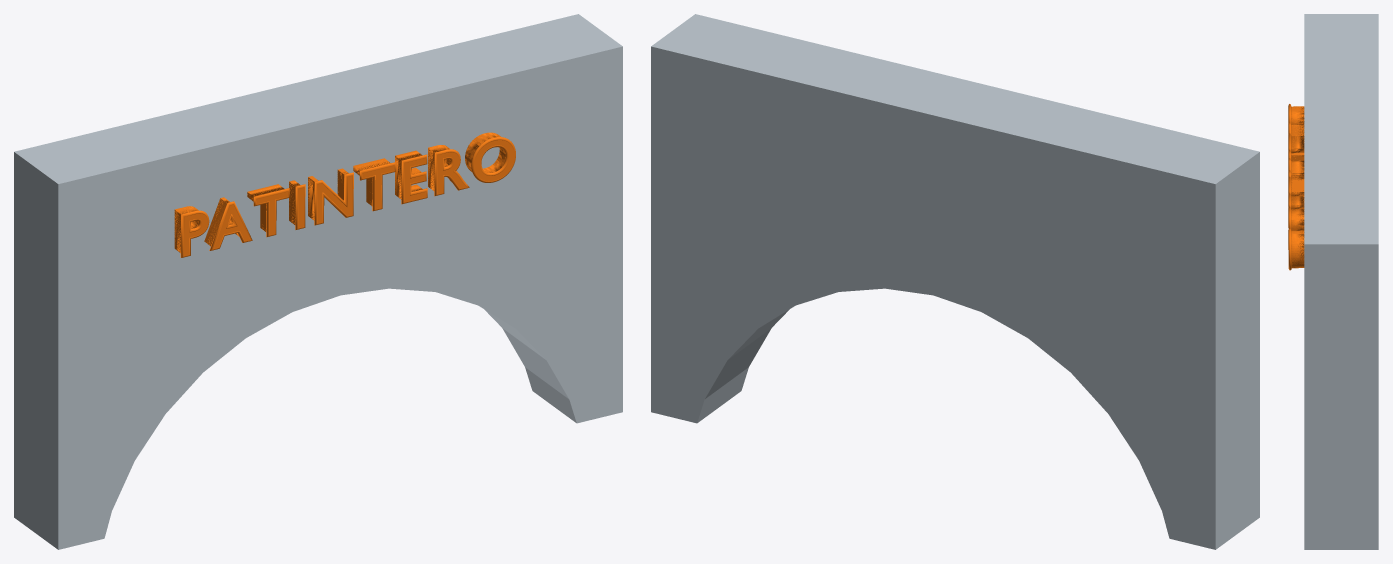
Rendered from parktitle.fbx.
The picture shows the model from 3 angles, left to right: view 1: azimuth 30°, elevation 25°; view 2: azimuth 150°, elevation 25°; view 3: azimuth 270°, elevation 25°; orthographic projection. The views are drawn at different scales.
Visible parts, largest first — view 1: Cube; view 2: Cube; view 3: Cube.
Part boxes in pixels (x1,y1,x2,y2): Cube: [14, 14, 622, 549]; Cube: [651, 14, 1259, 549]; Cube: [1288, 14, 1378, 549].
Size of the model in its own units: 2116 by 1310 by 350.
